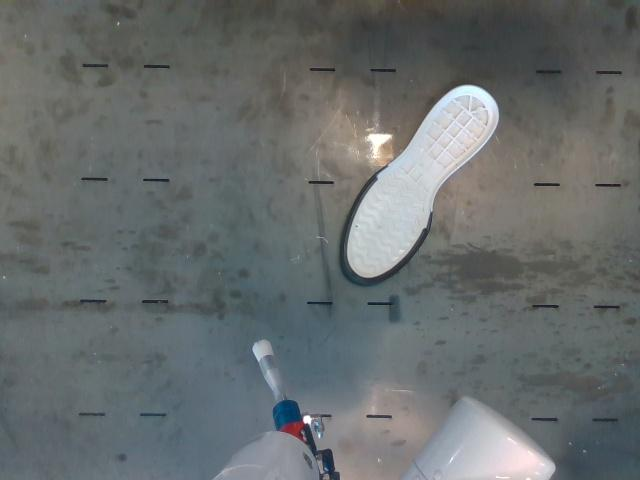shoes: (342, 86, 498, 284)
